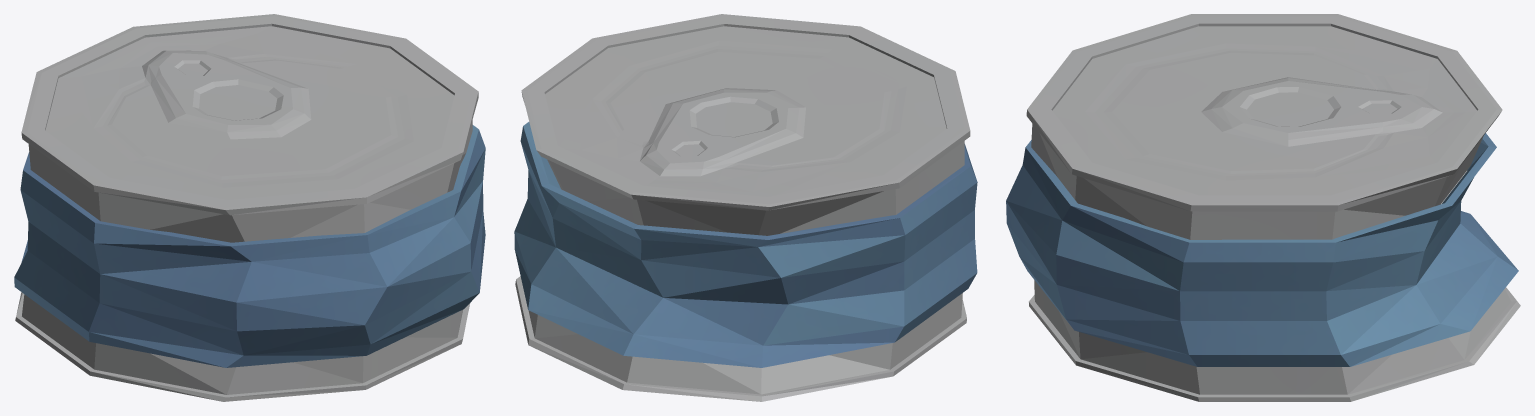
The model's file is can_2_closed.obj.
3 views of the same model, side by side, from view 1: azimuth 30°, elevation 25°; view 2: azimuth 150°, elevation 25°; view 3: azimuth 270°, elevation 25° (orthographic). The views are drawn at different scales.
Visible parts, largest first — view 1: can_2_closed_Mesh; view 2: can_2_closed_Mesh; view 3: can_2_closed_Mesh.
Boxes of the visible parts, x1,y1,x2,y2 form: can_2_closed_Mesh: (14,14,485,401); can_2_closed_Mesh: (514,14,977,401); can_2_closed_Mesh: (1006,14,1520,401).
Bounding box in the file's own units: 0.1148 × 0.0541 × 0.1267.
